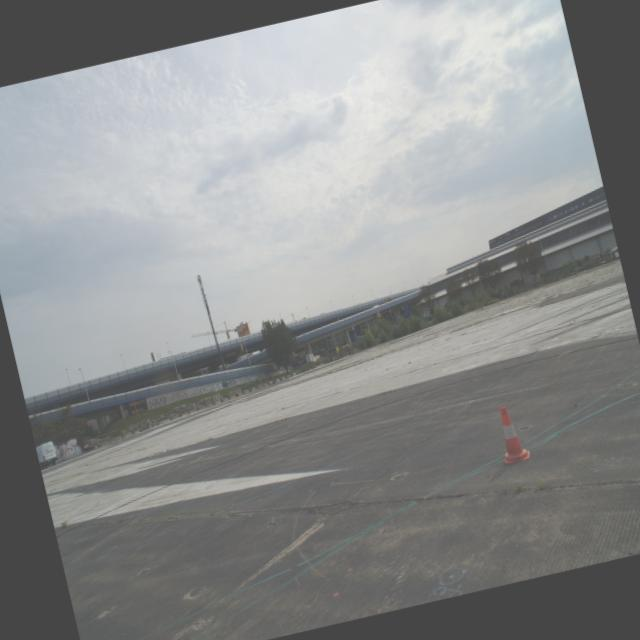orange_cone: (492, 402, 531, 464)
